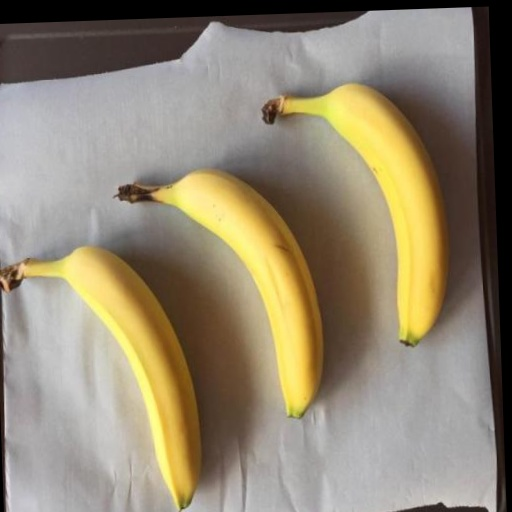fruit: (0, 247, 200, 510), (117, 169, 322, 417), (263, 84, 447, 346)
